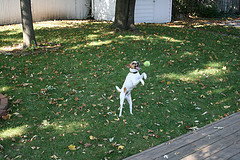tennis ball: (143, 60, 150, 67)
